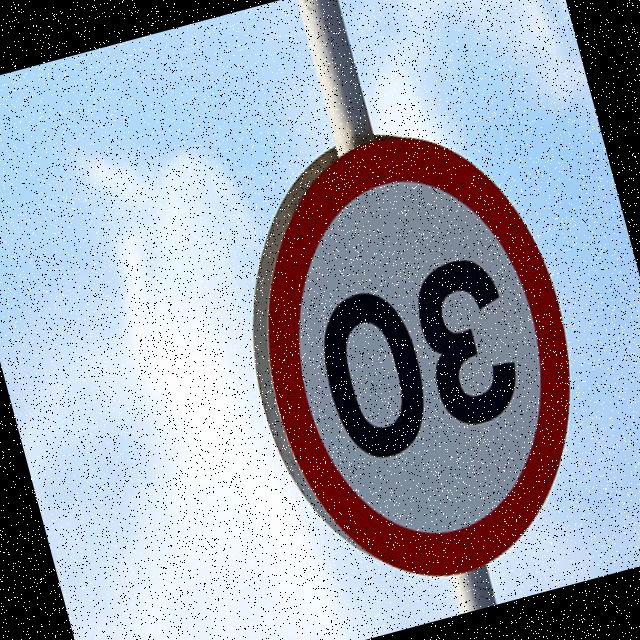speed_limit_30: (210, 101, 630, 616)
